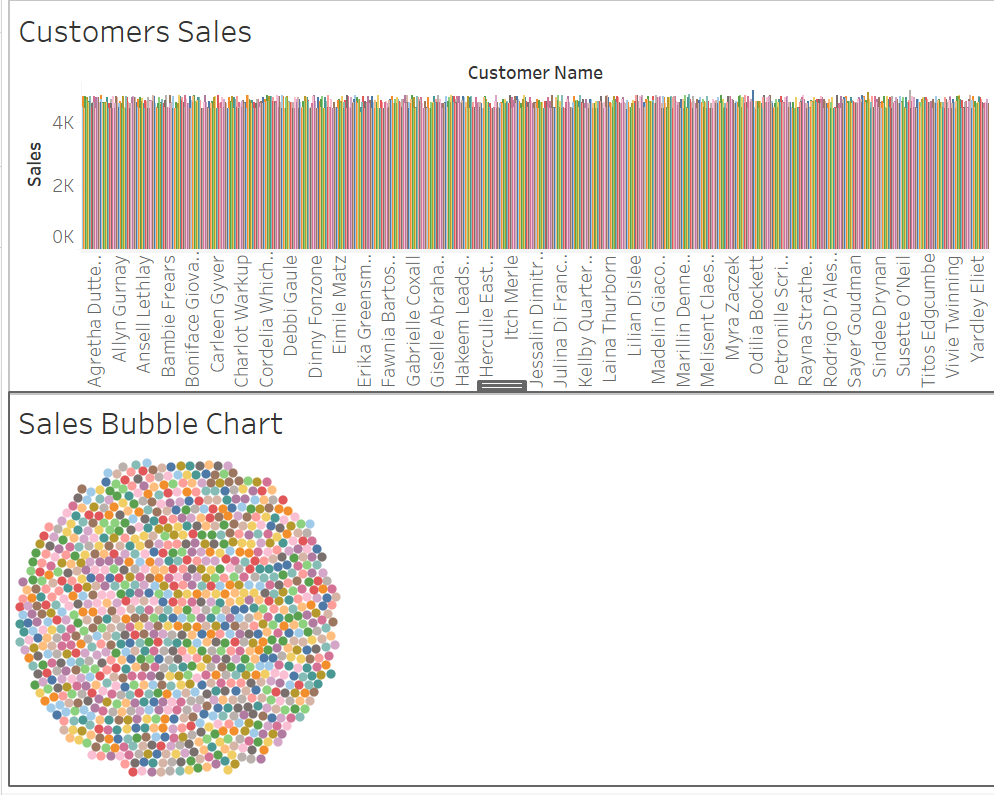

What the dashboard file says about the page in this screenshot:
{"tool":"tableau","page":{"name":"Dashboard 1","canvas":[1000,800],"ordinal":0},"visuals":[{"type":"worksheet","title":"Customers Sales","mark":"Automatic","rows":["Sales"],"cols":["Customer Name"],"box":[8,8,984,392]},{"type":"worksheet","title":"Sales Bubble Chart","mark":"Circle","box":[8,400,984,392]}]}

Visuals, with their boxes in screenshot pixels (x1, y1, x2, y2), scaled from the page's 1000x800 canvas onto the 994x795 screenshot:
"Customers Sales" worksheet: rect(8, 8, 986, 398)
"Sales Bubble Chart" worksheet (Circle marks): rect(8, 398, 986, 787)
